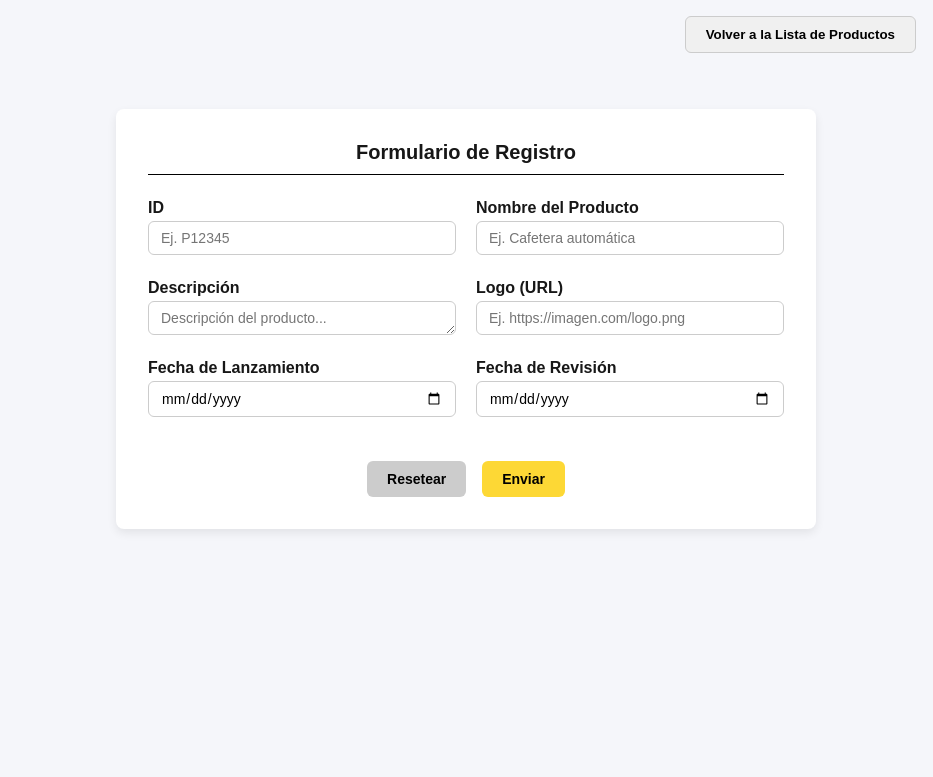
Test: ProductIntegration › debe mostrar mensaje de éxito después del submit
In the field labelled "ID": (302, 238) [148,221,456,255], type "P123"
In the field labelled "Nombre del Producto": (630, 238) [476,221,784,255], type "Cafetera"
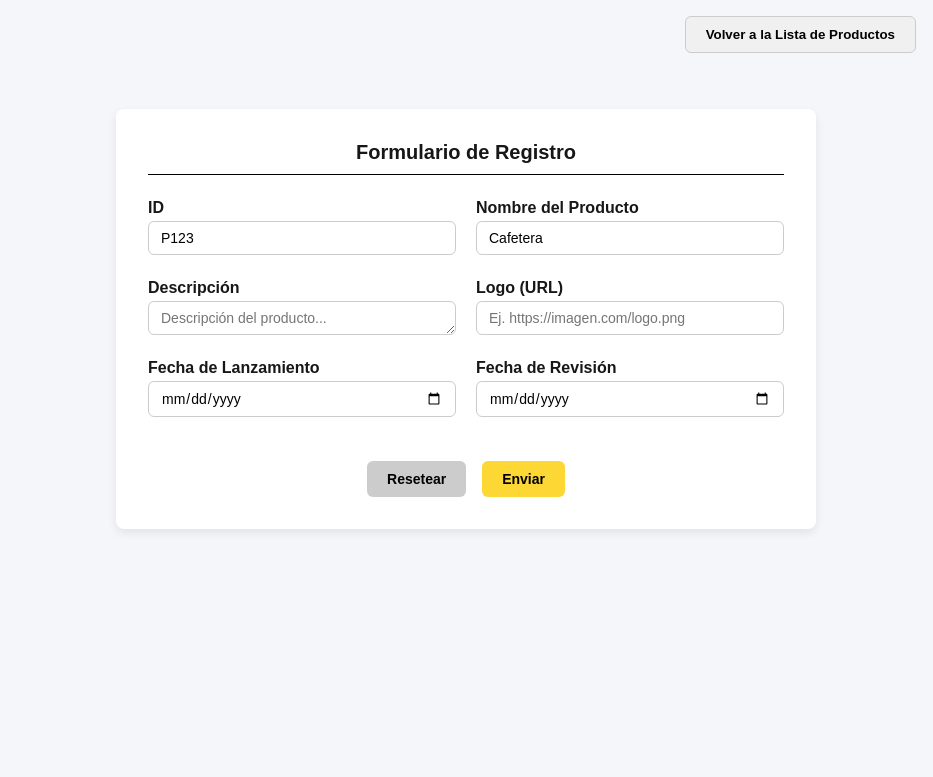
In the text box labelled "Descripción": (302, 318) [148,301,456,335], type "Hace café automáticamente"
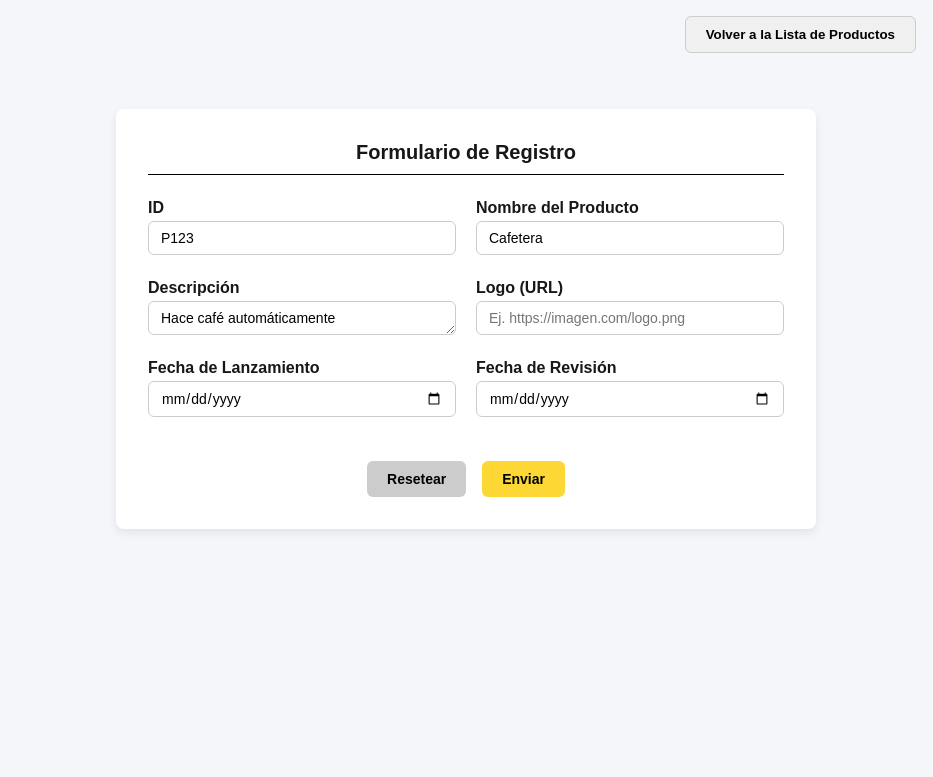
In the field labelled "Logo (URL)": (630, 318) [476,301,784,335], type "https://logo.com/cafe.png"
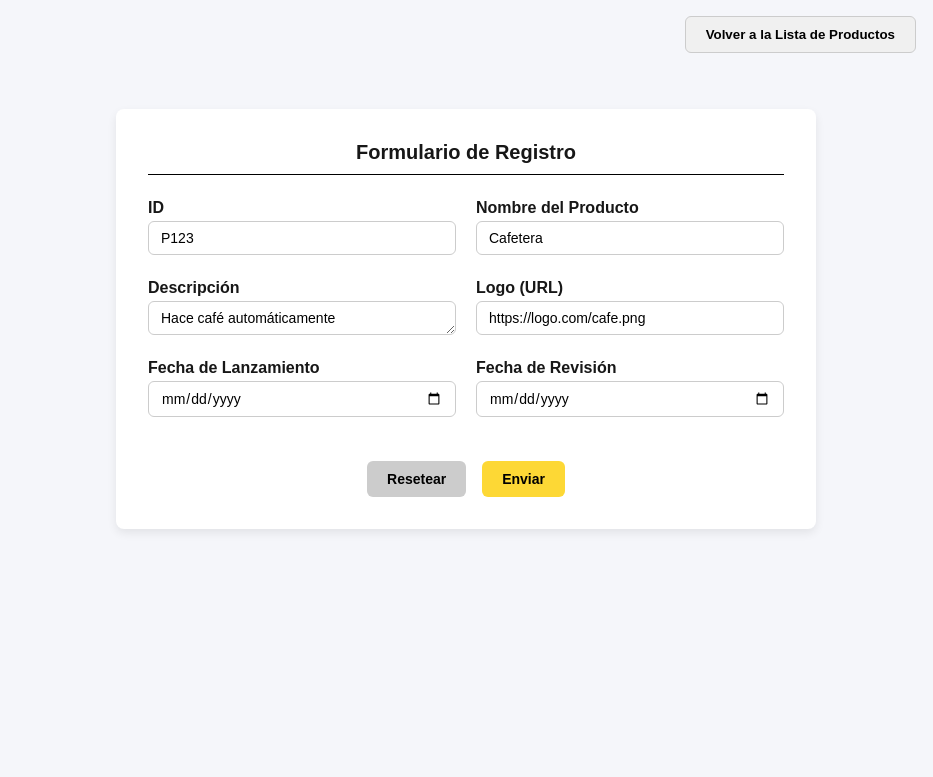
In the date field labelled "Fecha de Lanzamiento": (302, 399) [148,381,456,417], type "2025-08-01"
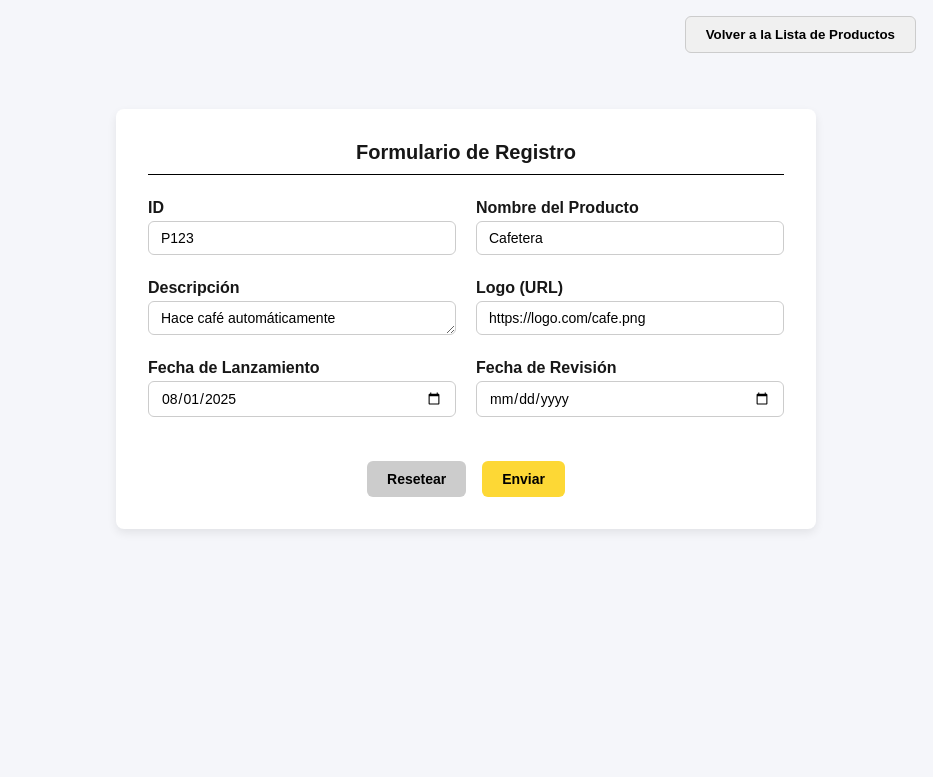
In the date field labelled "Fecha de Revisión": (630, 399) [476,381,784,417], type "2026-08-01"
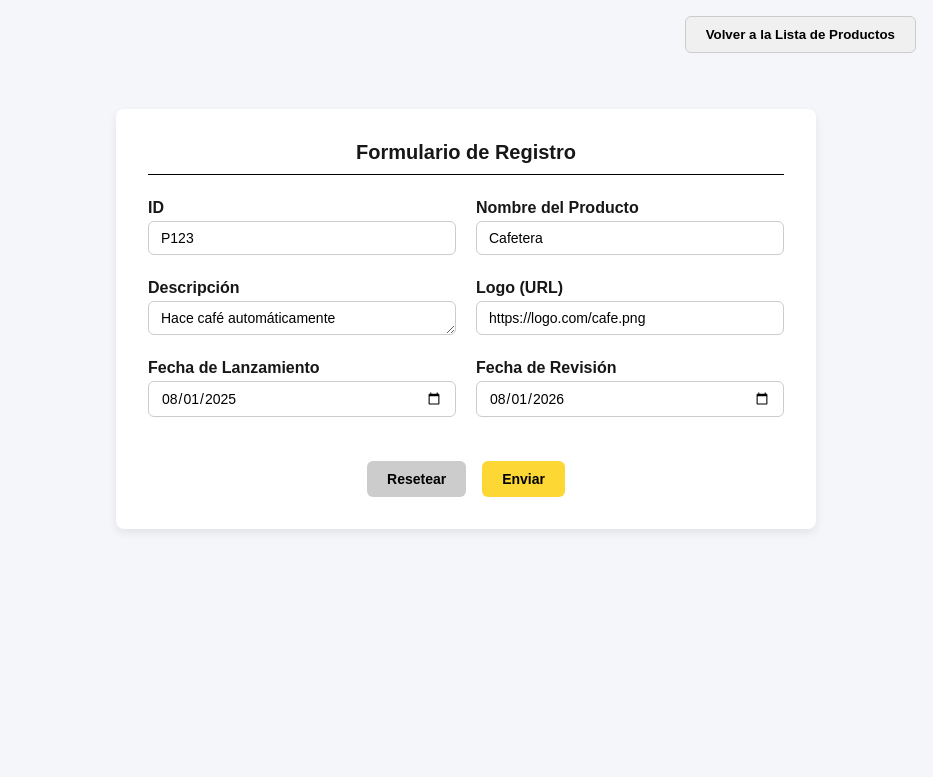
Click the button "Enviar": (524, 479) [482,461,565,497]
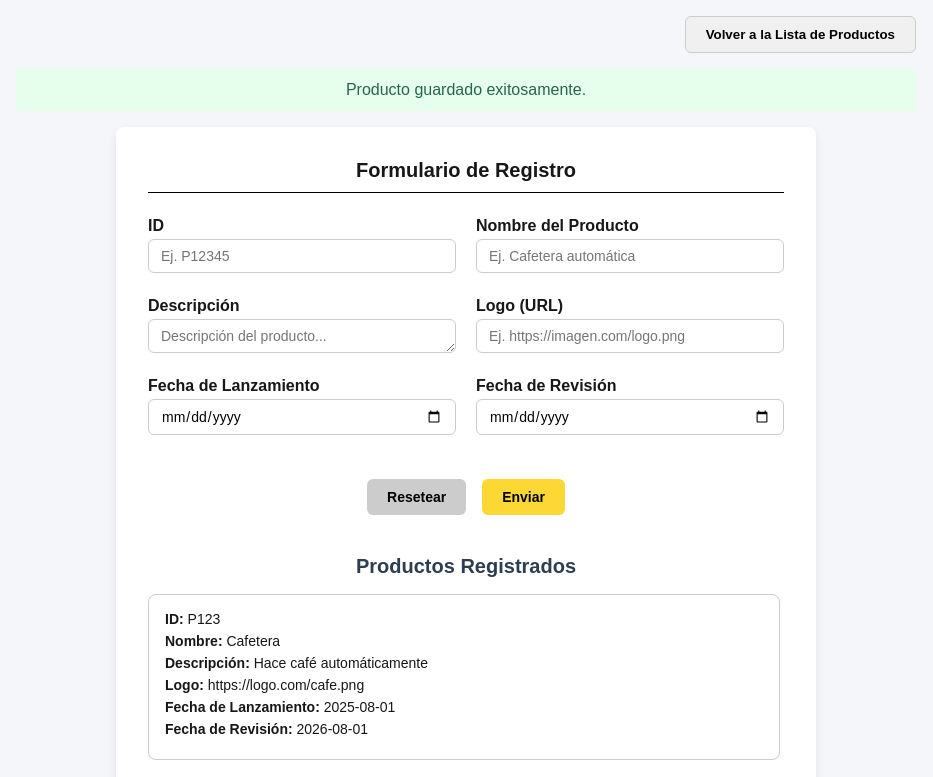
Check: the text "Producto guardado exitosamente." is shown, box [16,69,916,111]
